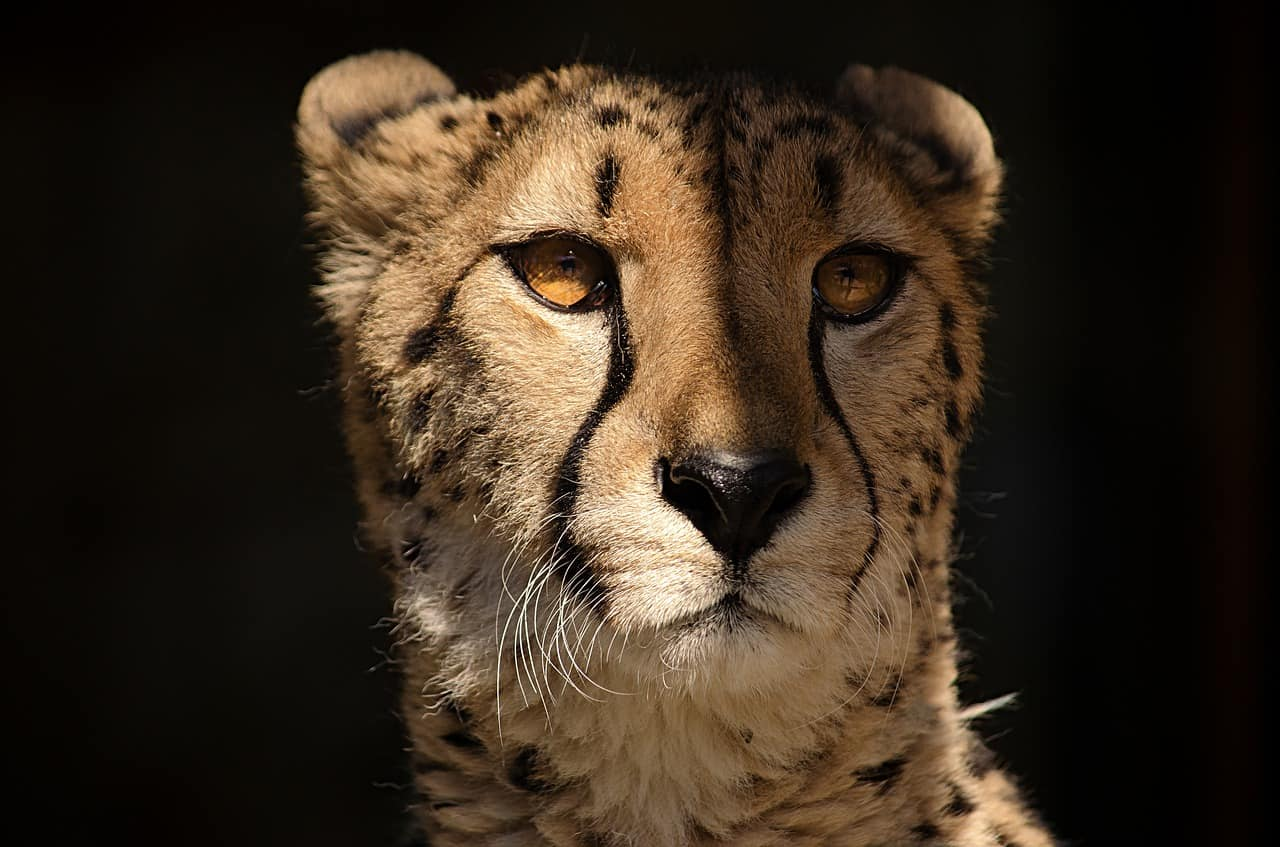cheetah: (246, 29, 1009, 769)
